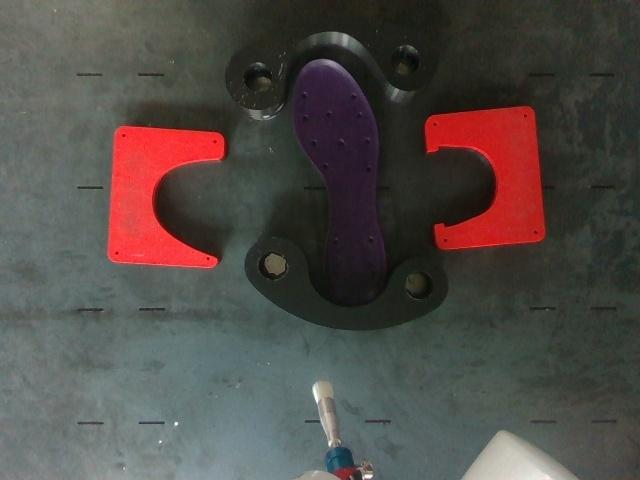shoes: (293, 59, 386, 302)
